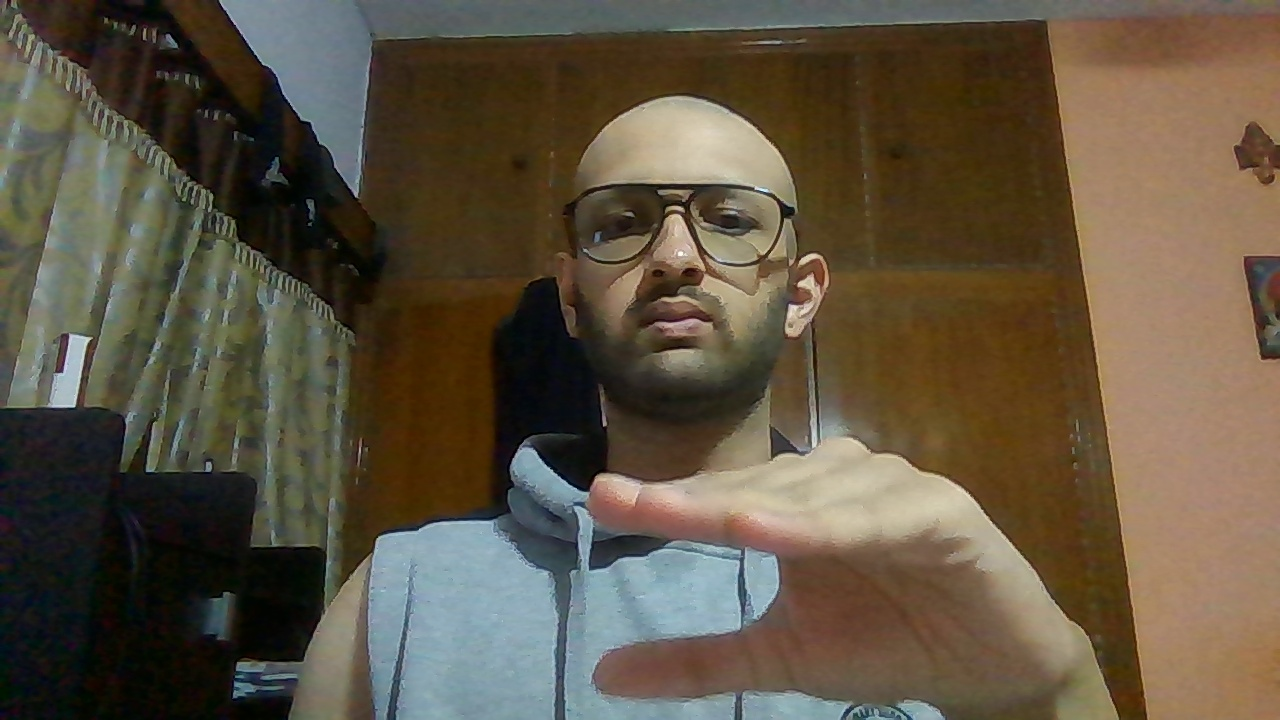No: (583, 432, 1076, 720)
